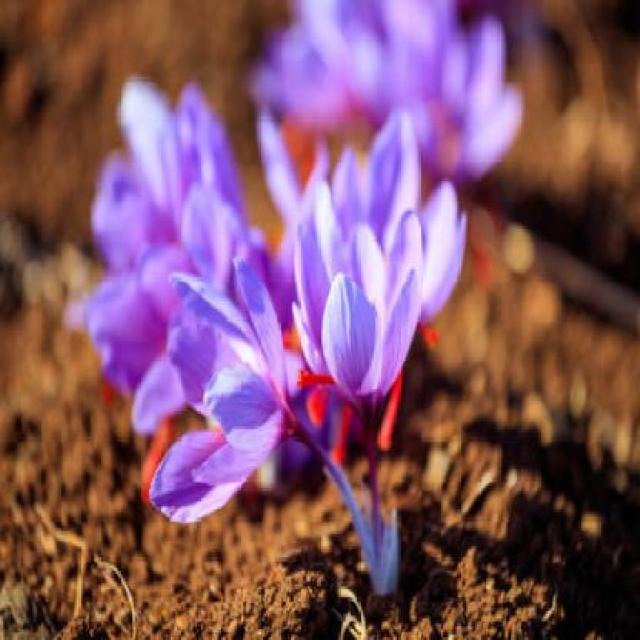Flower: (149, 252, 314, 523), (288, 210, 429, 438)
stigma: (372, 368, 408, 454), (326, 405, 364, 470), (301, 372, 342, 428)
